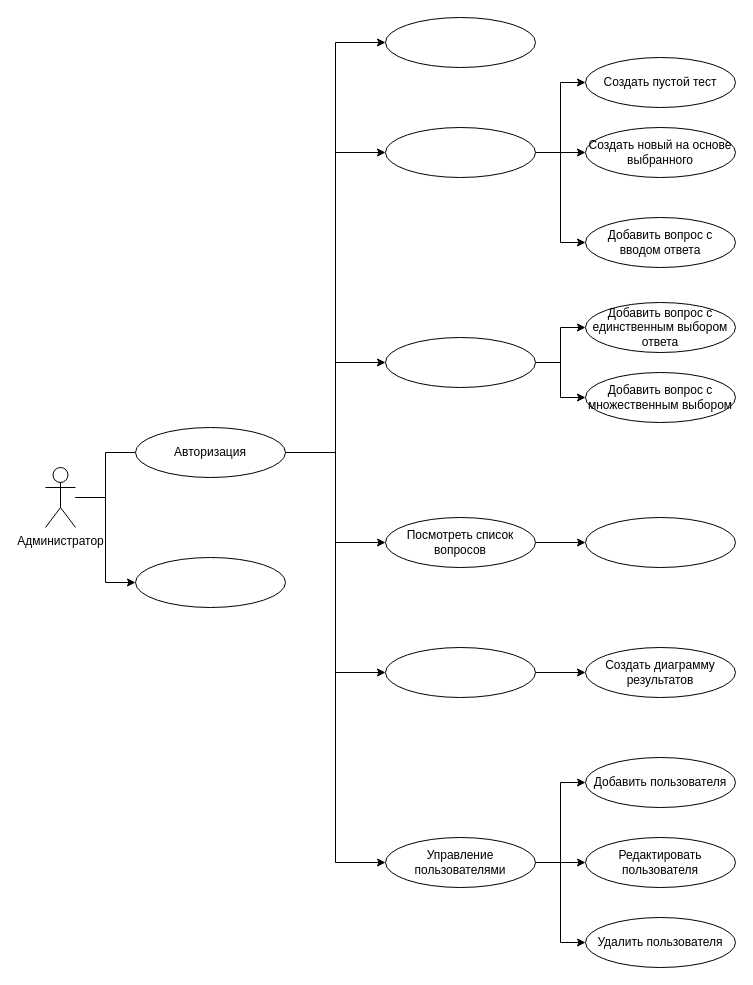
The diagram is 753 pixels wide and 985 high, and some of its shapes have lost their labels. Each missing label, with the centre of its shape:
"Выбрать необходимый тест" goes at [460,42].
"Добавить вопрос" goes at [460,362].
"Изменить пароль администратора" goes at [210,582].
"Посмотреть результаты всех пользователей" goes at [460,672].
"Создать новый тест" goes at [460,152].
"Удалить вопрос" goes at [660,542].
